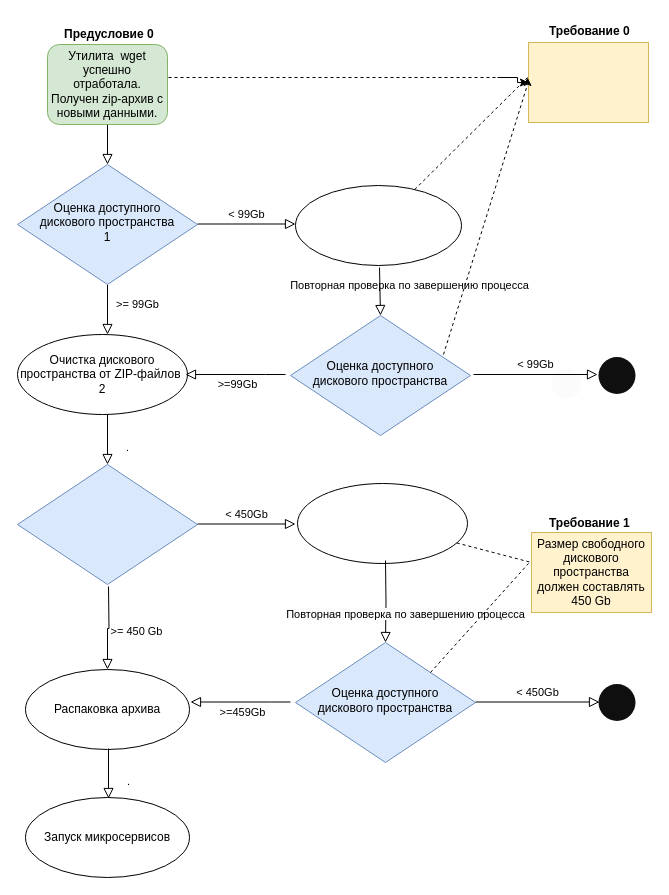
Some shapes in this 669 by 895 pixel diagram are drawn without their labels. Here are the shapes that lost their labels. From the top down, the centre of each, then its label:
At (588,82): "Размер свободного дискового пространства должен составлять 99 Gb".
At (378,225): "Очистка дискового пространства от ZIP-файлов 1".
At (107,524): "Оценка доступного дискового пространства 2".
At (382,523): "Очистка дискового пространства от старых каталогов с данными".
